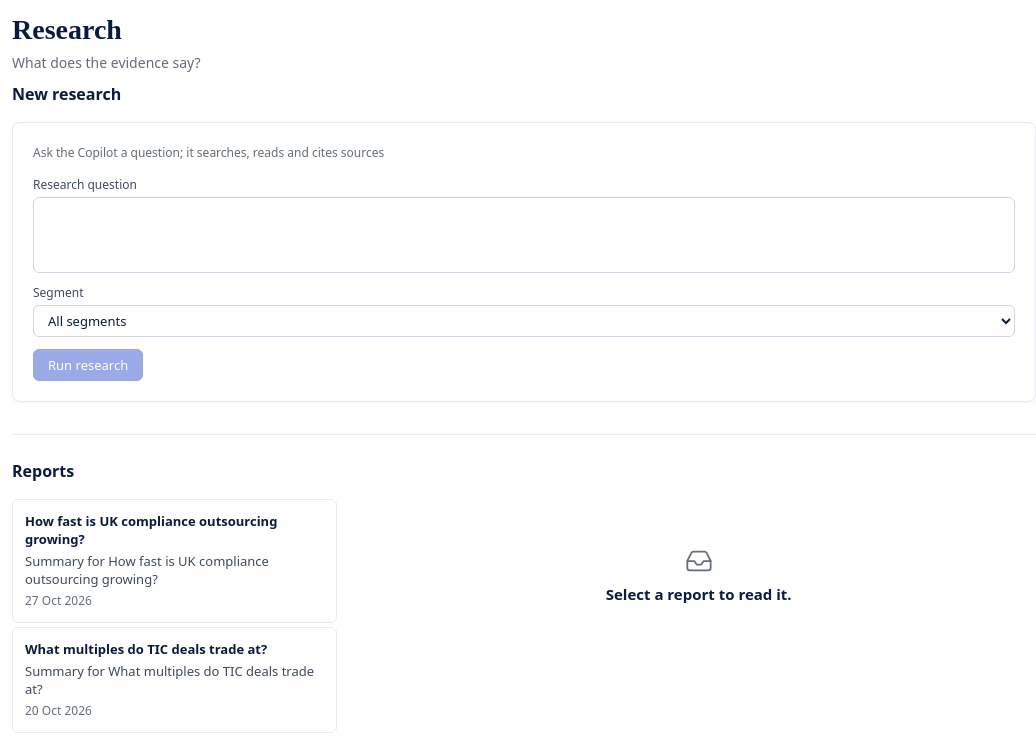
Test: Research › opens the new report when the run finishes and shows what it cost
The width and height of the screenshot is (1036, 750).
Type "How big is UK compliance outsourcing?" into the text box labelled "Research question". click: (524, 235)
box: [33, 197, 1015, 273]
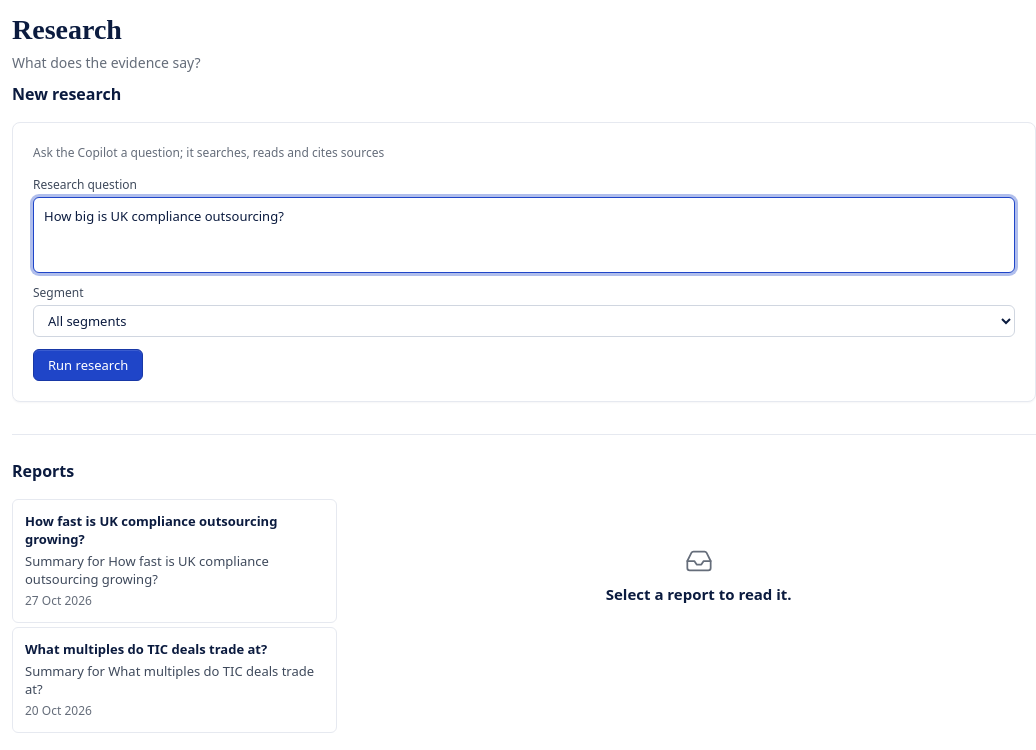
Click the button "Run research". click: (88, 365)
box: [33, 349, 143, 381]
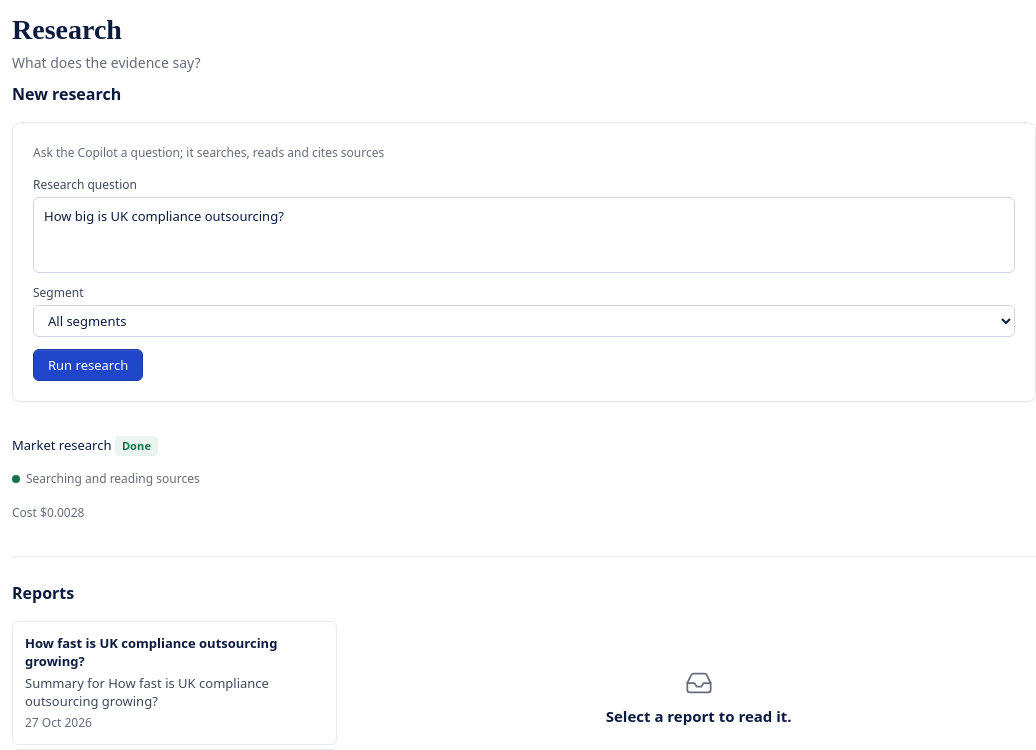
Check: the element with test id "research-progress" shows "$0.0028", box [40, 504, 84, 521]
